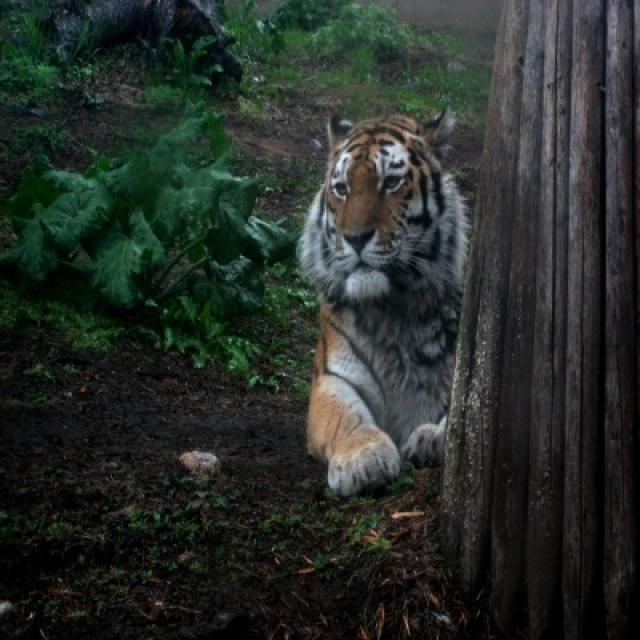Tiger: (306, 106, 466, 488)
